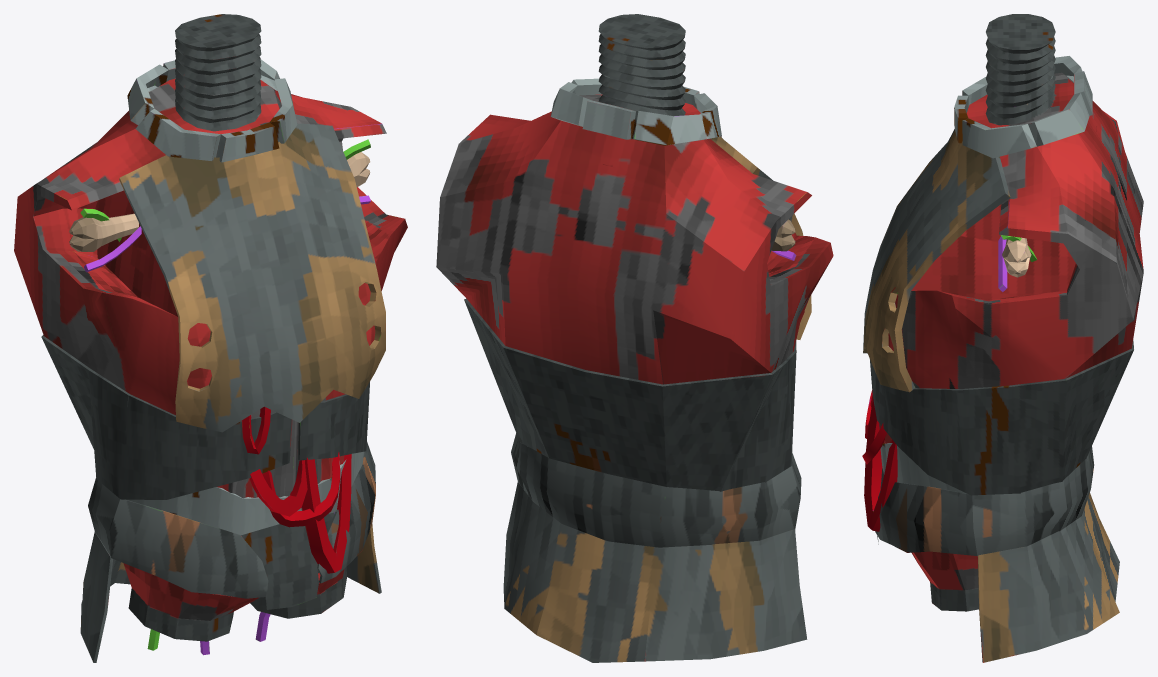
Rendered from Torso.fbx.
3 renders of one model, left to right at view 1: azimuth 30°, elevation 25°; view 2: azimuth 150°, elevation 25°; view 3: azimuth 270°, elevation 25°, orthographic. The views are drawn at different scales.
Parts seen in each view (by area): view 1: Torso; view 2: Torso; view 3: Torso.
Boxes of the visible parts, x1,y1,x2,y2 form: Torso: [14, 14, 407, 662]; Torso: [436, 14, 833, 662]; Torso: [862, 14, 1143, 662].
Size of the model in its own units: 58.27 by 107 by 46.71.
